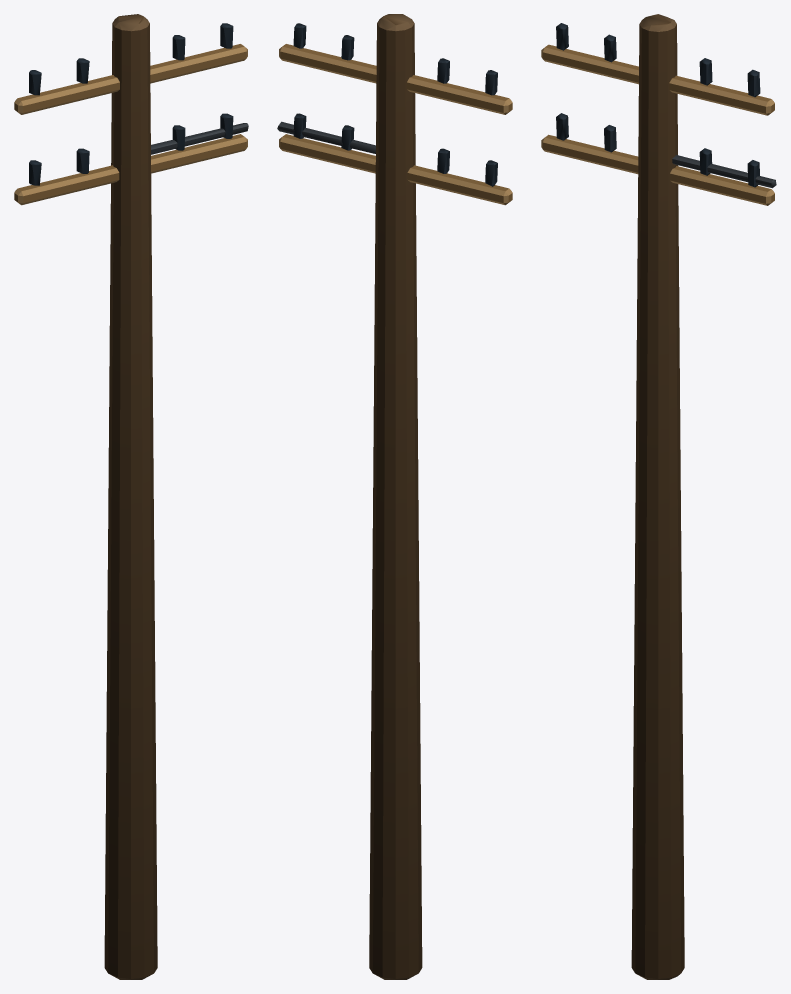
File: telegraph-pole-v1.lod1.glb
The picture shows the model from 3 angles, left to right: view 1: azimuth 30°, elevation 25°; view 2: azimuth 150°, elevation 25°; view 3: azimuth 330°, elevation 25°; orthographic projection.
Visible parts, largest first — view 1: telegraph-pole-v1.lod1; view 2: telegraph-pole-v1.lod1; view 3: telegraph-pole-v1.lod1.
Part boxes in pixels (x1,y1,x2,y2): telegraph-pole-v1.lod1: [14, 14, 248, 979]; telegraph-pole-v1.lod1: [277, 14, 512, 979]; telegraph-pole-v1.lod1: [541, 14, 776, 979].
Size of the model in its own units: 2.43 by 9.5 by 0.48.
